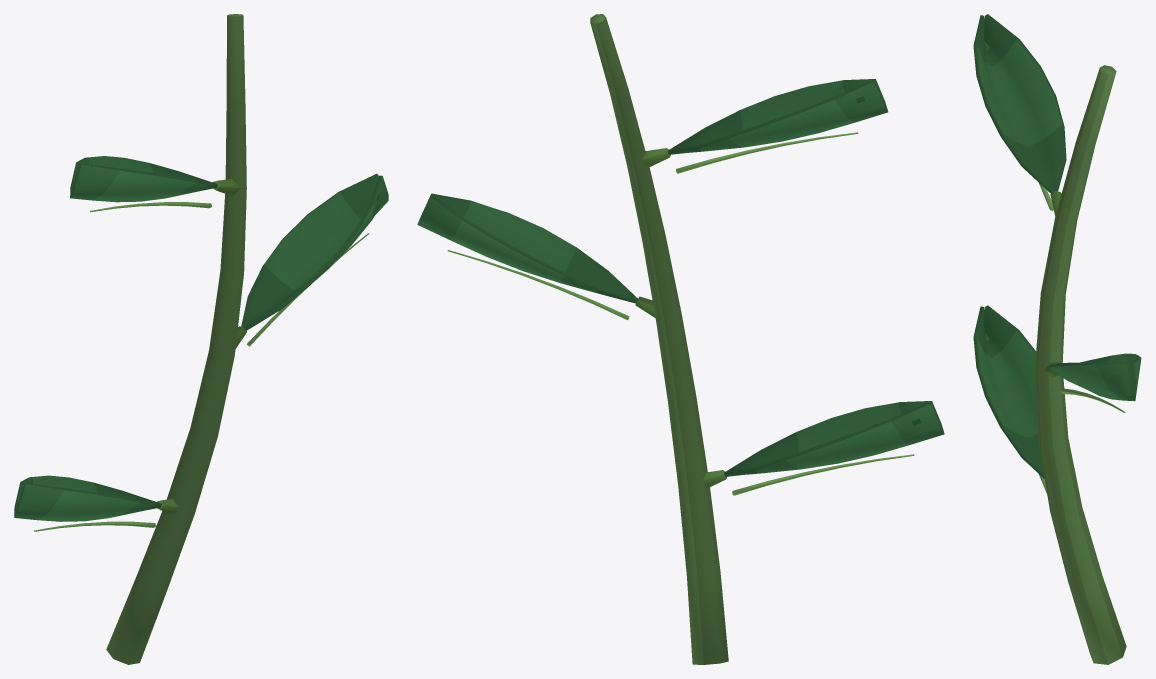
File: garden-zinnia-leaves-stem-2.glb
3 views of the same model, side by side, from view 1: azimuth 30°, elevation 25°; view 2: azimuth 150°, elevation 25°; view 3: azimuth 270°, elevation 25° (orthographic). The views are drawn at different scales.
Visible parts, largest first — view 1: zinnia-leaves-stem-2; view 2: zinnia-leaves-stem-2; view 3: zinnia-leaves-stem-2.
Boxes of the visible parts, x1,y1,x2,y2 form: zinnia-leaves-stem-2: (14,14,388,664); zinnia-leaves-stem-2: (417,14,944,664); zinnia-leaves-stem-2: (973,14,1141,664).
Bounding box in the file's own units: 0.195 × 0.2572 × 0.0605.
